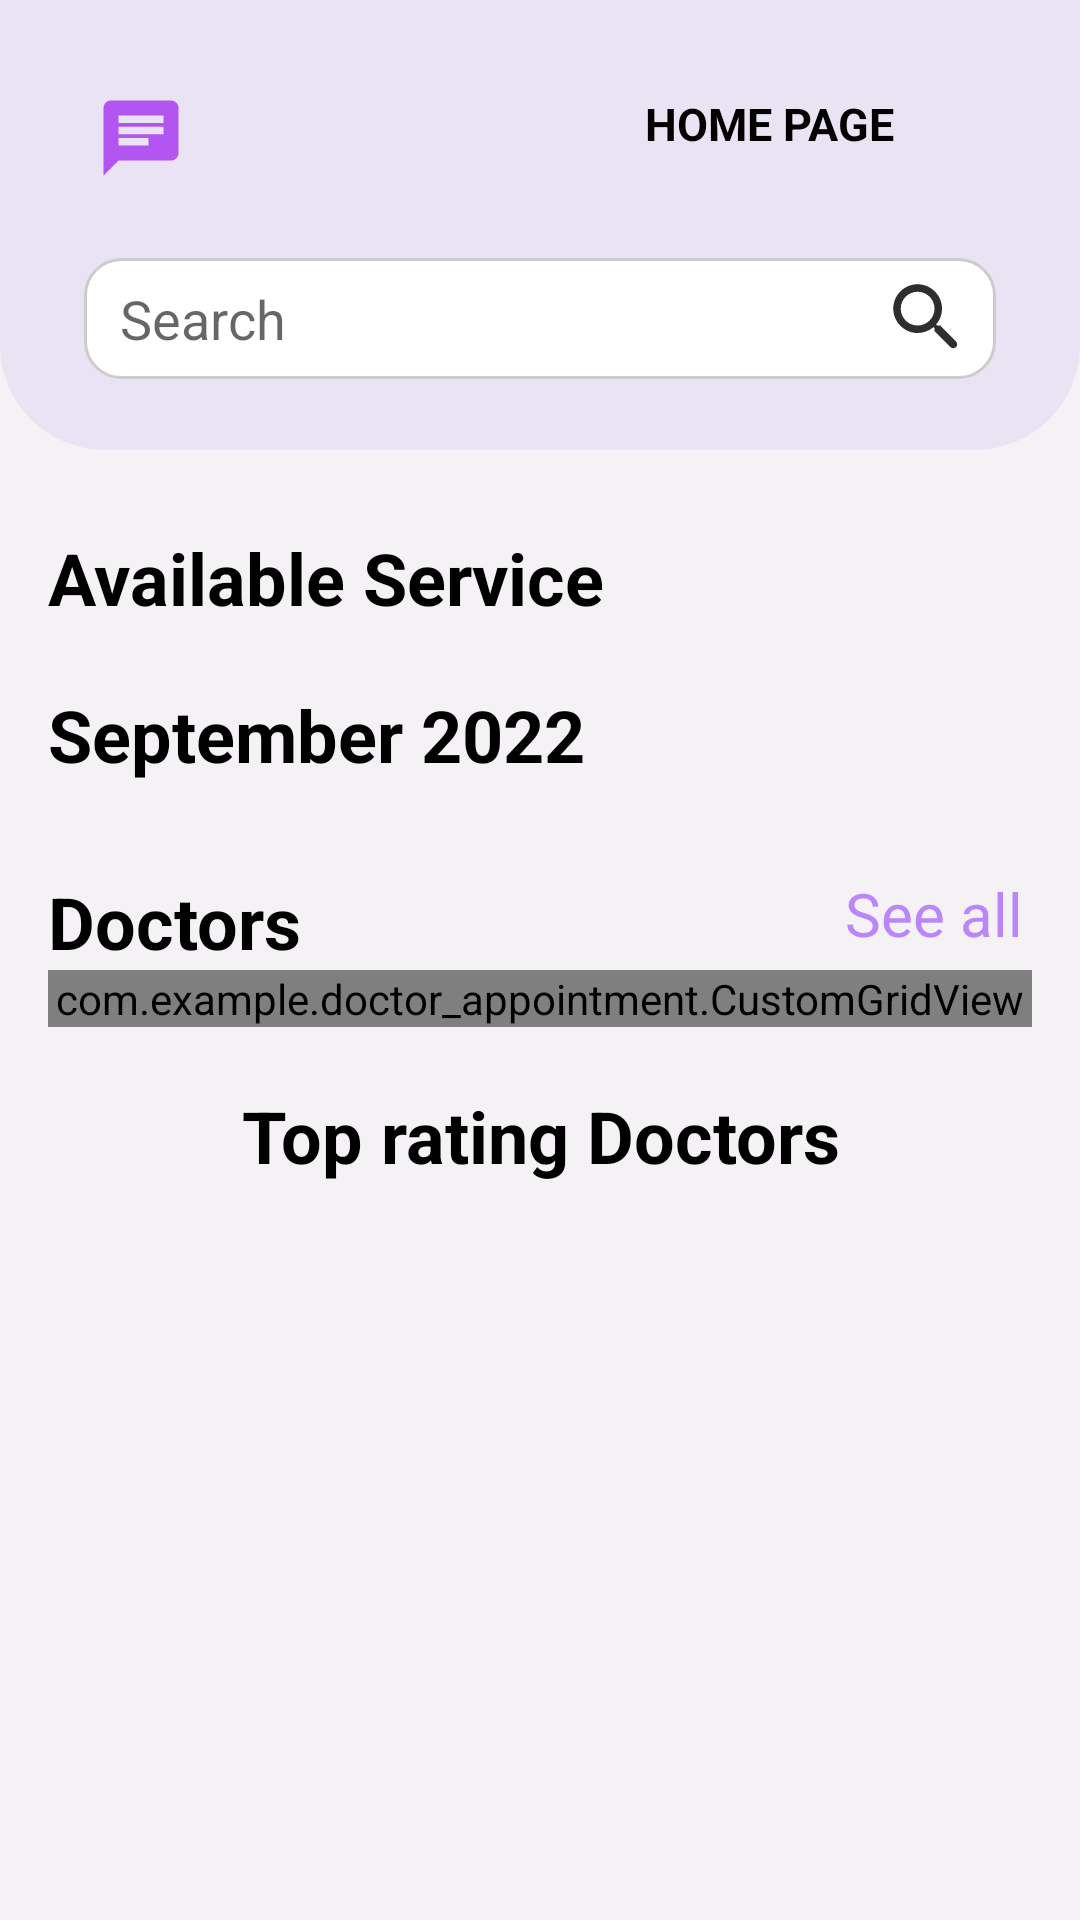

Point at icon controls on the screen. Image size 1080w x 1920h, points as (x=x, y=y).
chat: (x=141, y=138)
